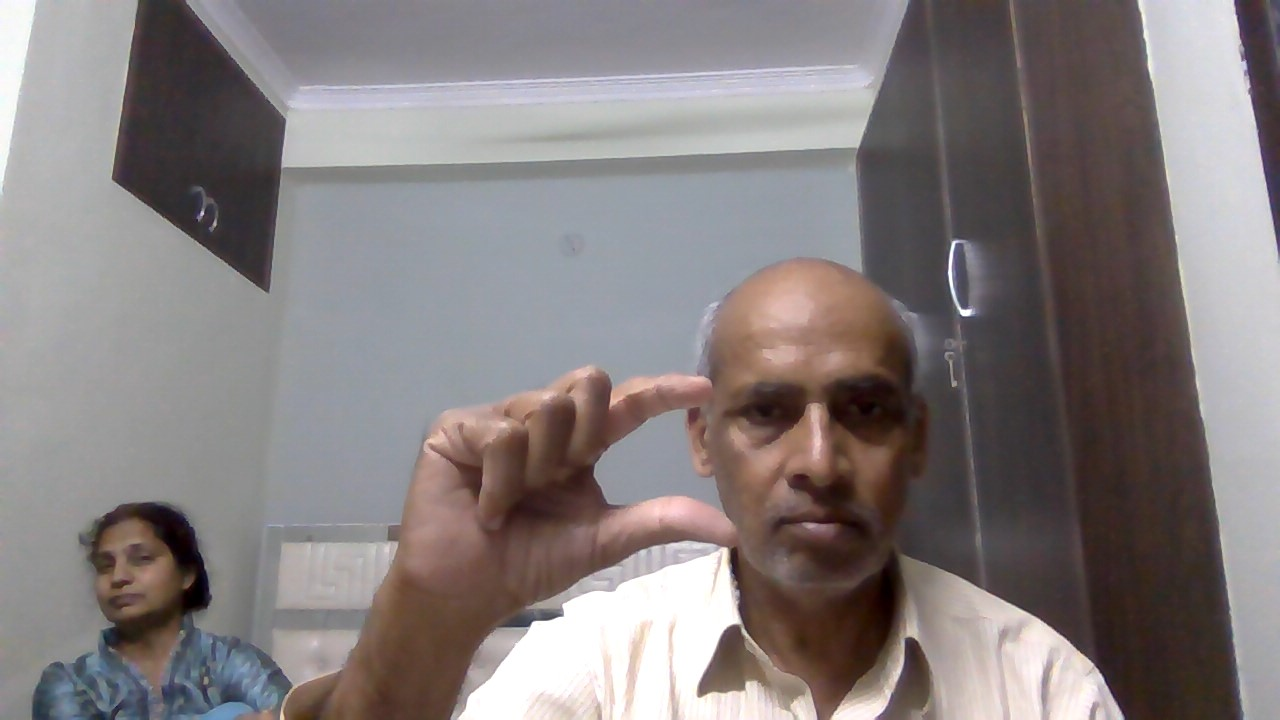Paste: (384, 356, 757, 638)
